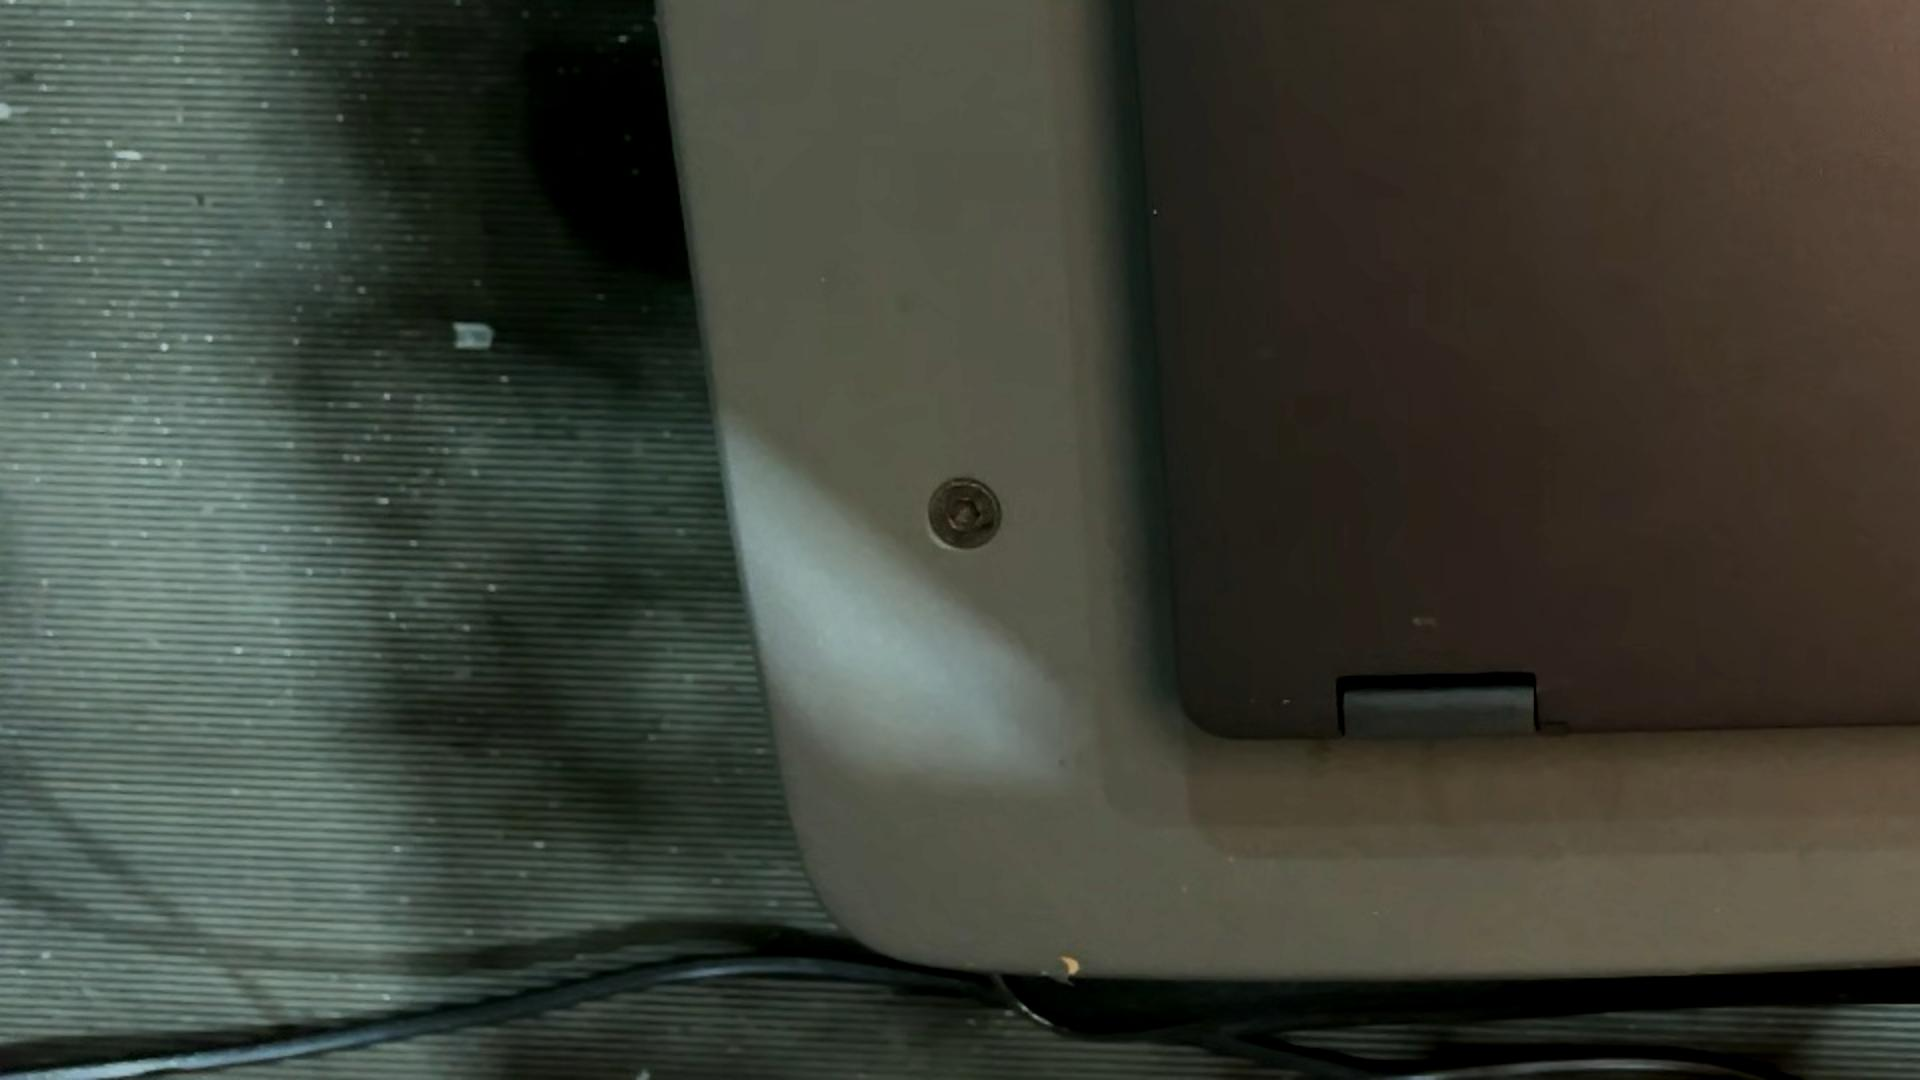chip: (1151, 207, 1162, 218)
scratches: (1282, 698, 1292, 704)
